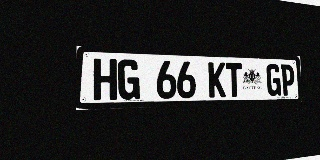6: (156, 60, 176, 99), (177, 61, 196, 98)
G: (118, 59, 140, 100), (266, 64, 281, 96)
H: (93, 58, 117, 100)
K: (208, 62, 226, 98)
P: (281, 64, 295, 96)
T: (226, 63, 242, 97)
